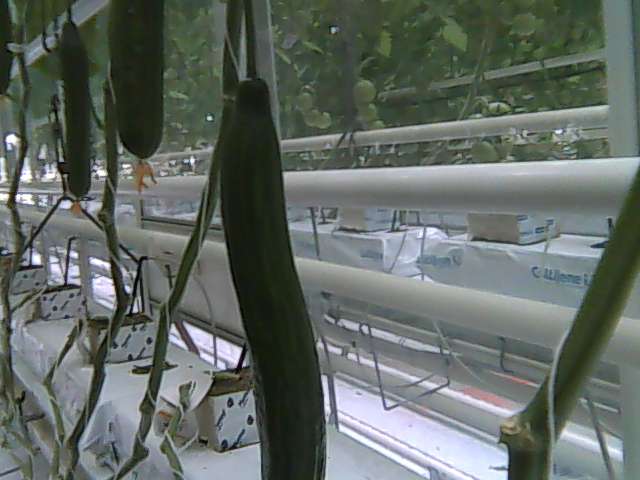concombre: (216, 61, 332, 480), (104, 1, 167, 185)
